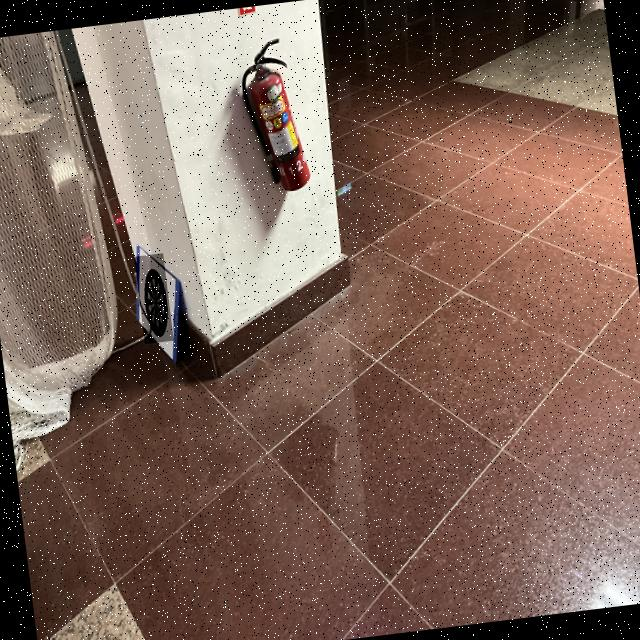archery-targets: (134, 252, 174, 344)
